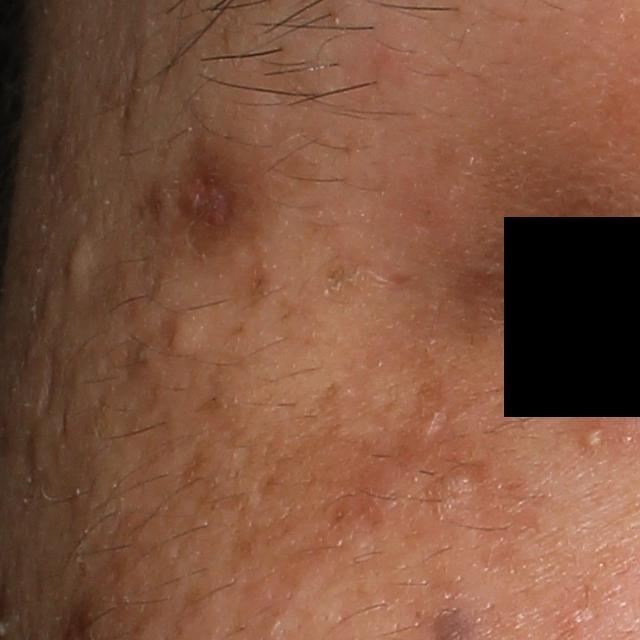atrophic_scar: (168, 156, 250, 255)
comedo: (158, 311, 215, 374), (58, 235, 95, 294)
melasma: (176, 380, 508, 589)
